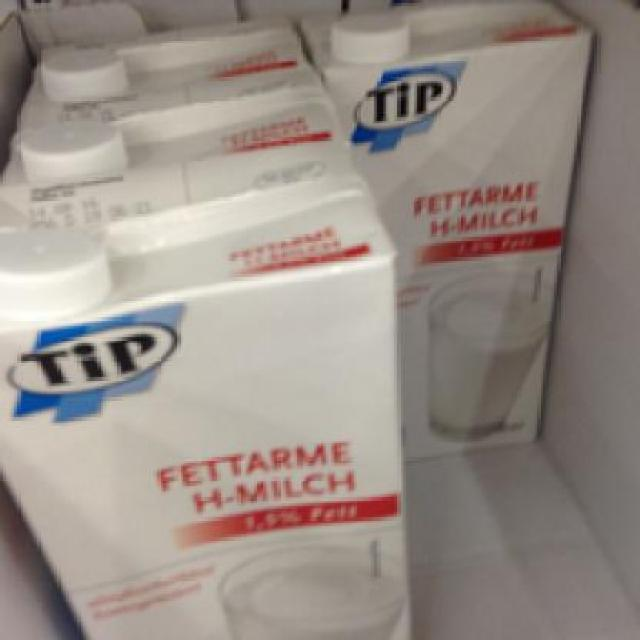Milk: (0, 188, 406, 638), (308, 6, 592, 472)
